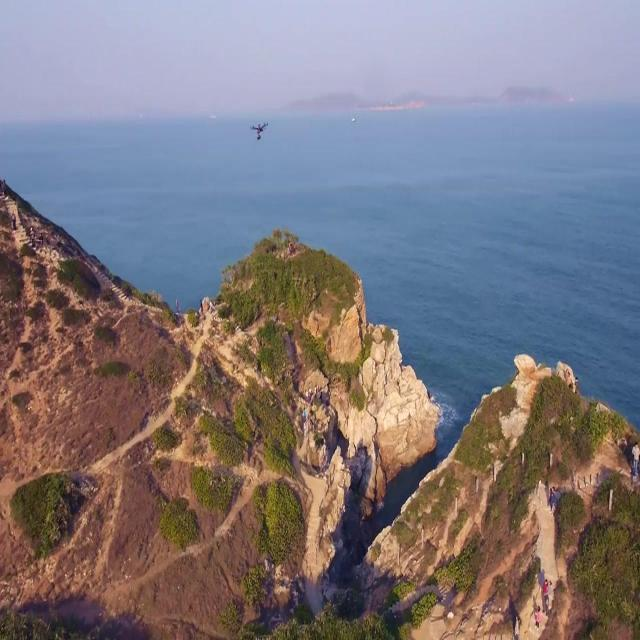UAV: (250, 122, 268, 140)
